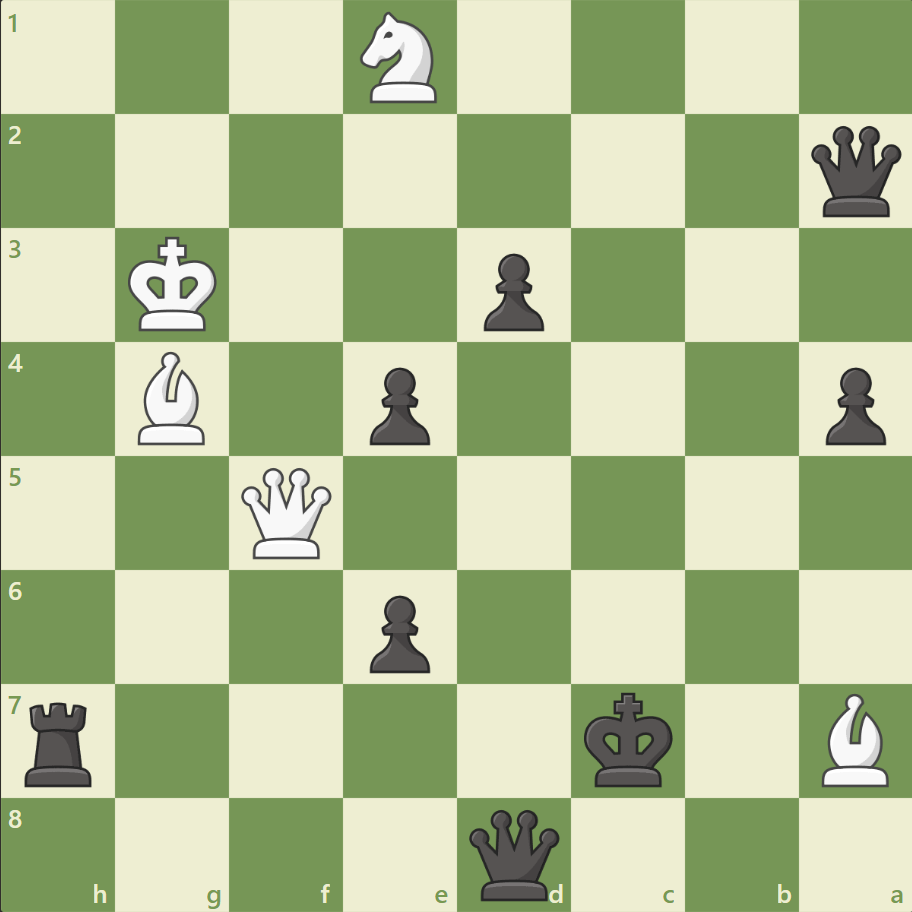B: (812, 687, 896, 790), (131, 347, 215, 449)
K: (124, 231, 224, 339)
N: (351, 7, 449, 110)
Q: (237, 463, 336, 562)
k: (579, 685, 679, 793)
p: (474, 246, 549, 337), (361, 586, 435, 677), (815, 359, 889, 450), (361, 359, 435, 450)
q: (805, 122, 904, 222), (464, 804, 563, 903)
r: (19, 693, 102, 790)
